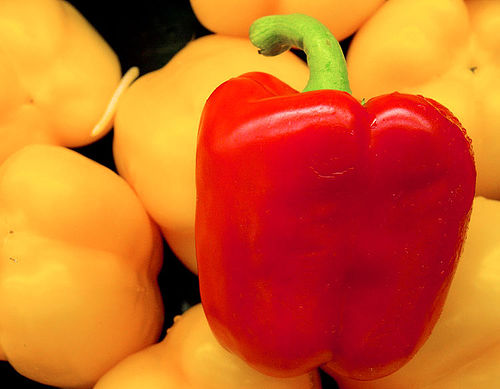capsicum: (193, 12, 477, 380), (0, 143, 165, 387)
